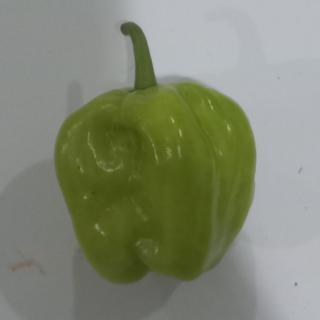Grade-B: (51, 76, 264, 285)
